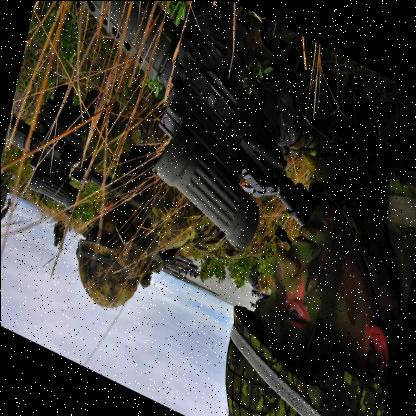rifle: (11, 0, 343, 275)
